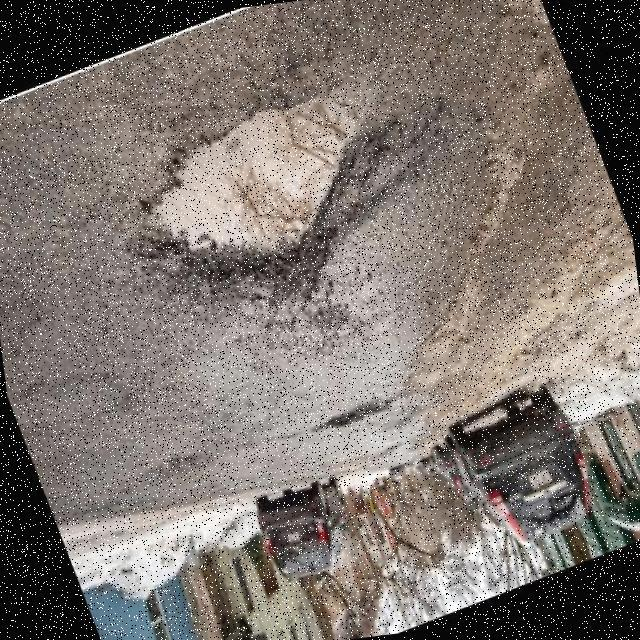Pothole: (131, 86, 413, 278), (315, 402, 384, 432)
